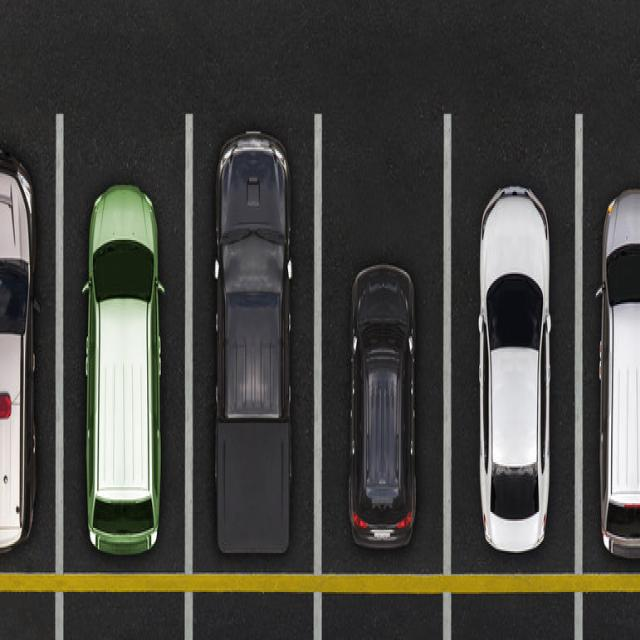cars: (214, 128, 292, 555), (82, 181, 165, 555), (477, 183, 551, 553), (348, 262, 416, 550), (595, 185, 639, 560), (0, 146, 39, 553)
